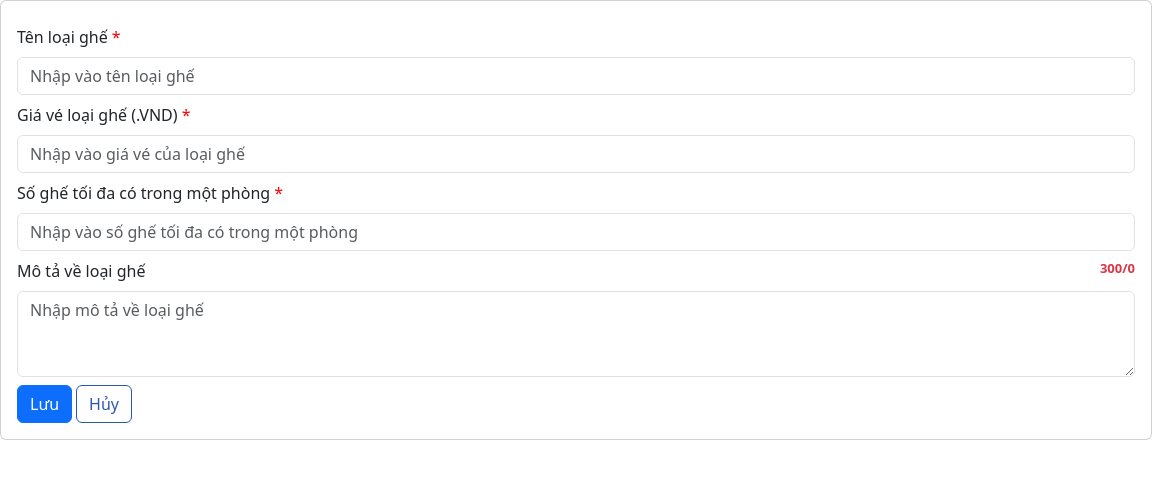
Test: FormChairCategory › func check chairCategory is Used (TC 5)
The width and height of the screenshot is (1152, 483).
// Nhập dữ liệu vào các trường input sử dụng fireEvent.change
In the field with placeholder "Nhập vào tên loại ghế": [576, 76] box top-left (17, 57), bottom-right (1135, 95), type "vip"
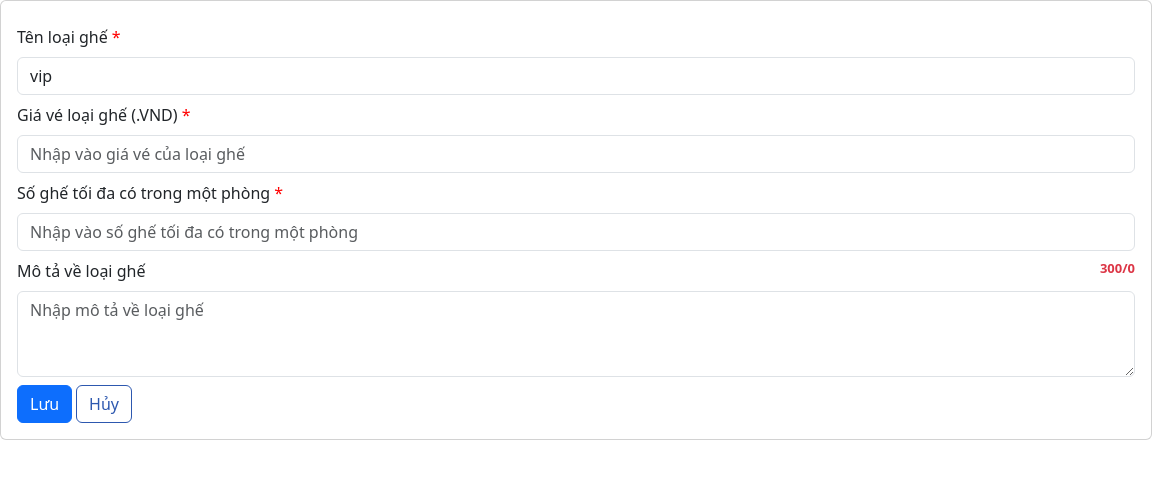
In the text box with placeholder "Nhập mô tả về loại ghế": [576, 334] box top-left (17, 291), bottom-right (1135, 377), type "Loại ghế cao cấp với nhiều tiện nghi."
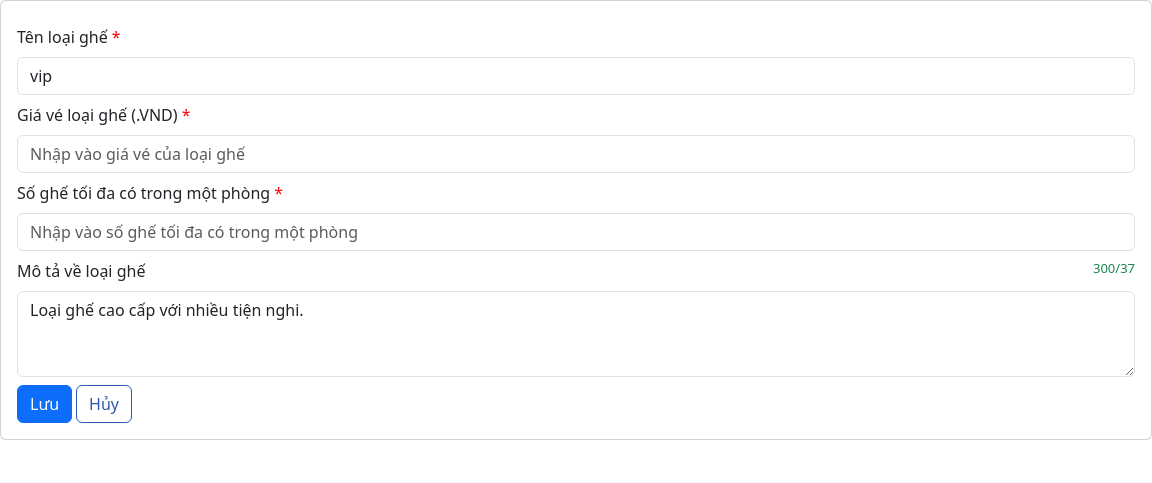
In the number field with placeholder "Nhập vào giá vé của loại ghế": [576, 154] box top-left (17, 135), bottom-right (1135, 173), type "150000"
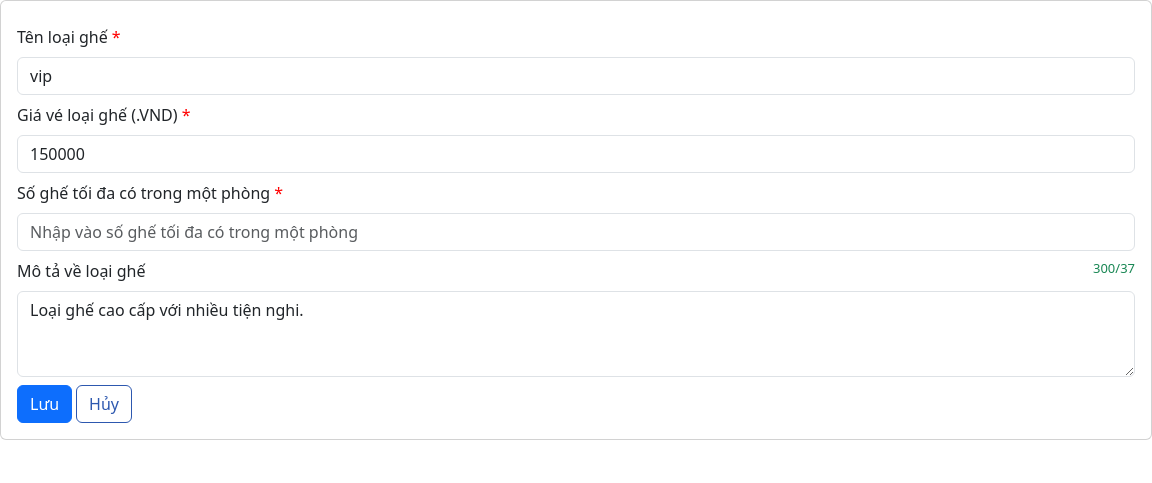
In the number field with placeholder "Nhập vào số ghế tối đa có trong một phòng": [576, 232] box top-left (17, 213), bottom-right (1135, 251), type "50"
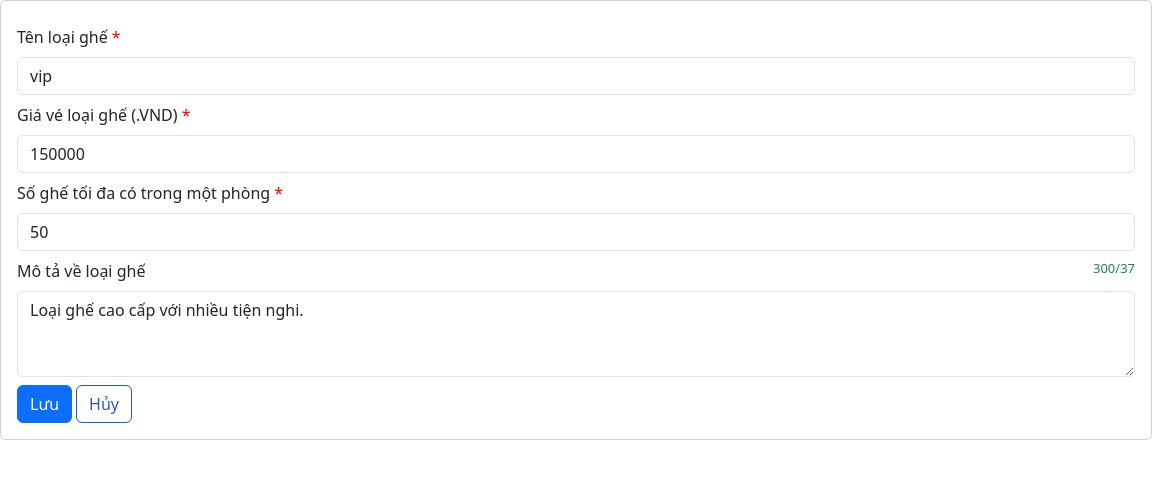
// Bấm nút "Lưu" mà không nhập bất kỳ dữ liệu nào
Click the button "Lưu": [45, 404] box top-left (17, 385), bottom-right (72, 423)
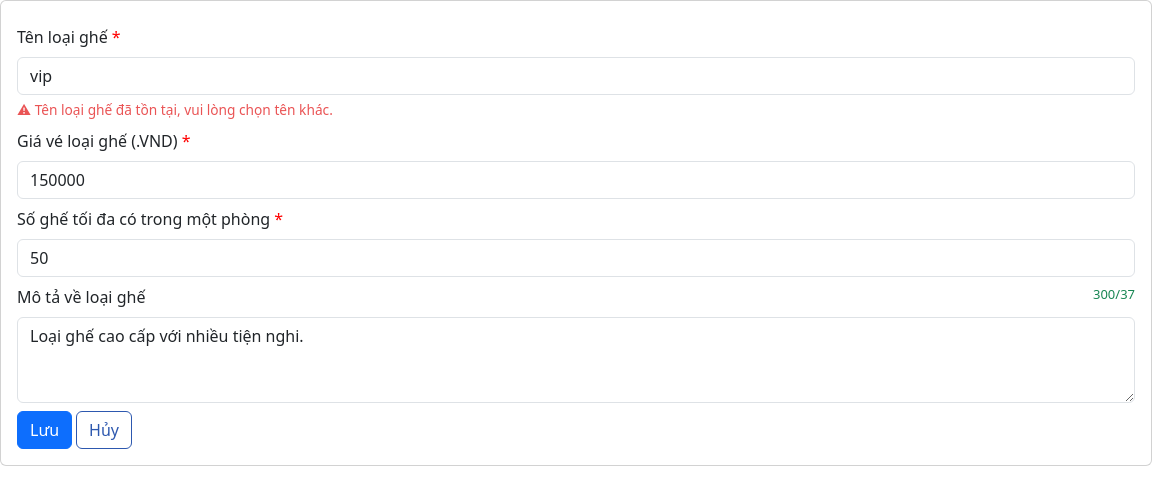
Expected: the text "Tên loại ghế đã tồn tại, vui lòng chọn tên khác." is shown, top-left (35, 100), bottom-right (333, 119)
